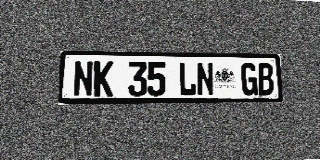3: (128, 61, 147, 96)
5: (148, 61, 166, 96)
B: (257, 63, 274, 95)
G: (241, 63, 258, 95)
K: (94, 61, 113, 97)
L: (178, 62, 196, 96)
N: (73, 61, 93, 97), (196, 62, 214, 96)
